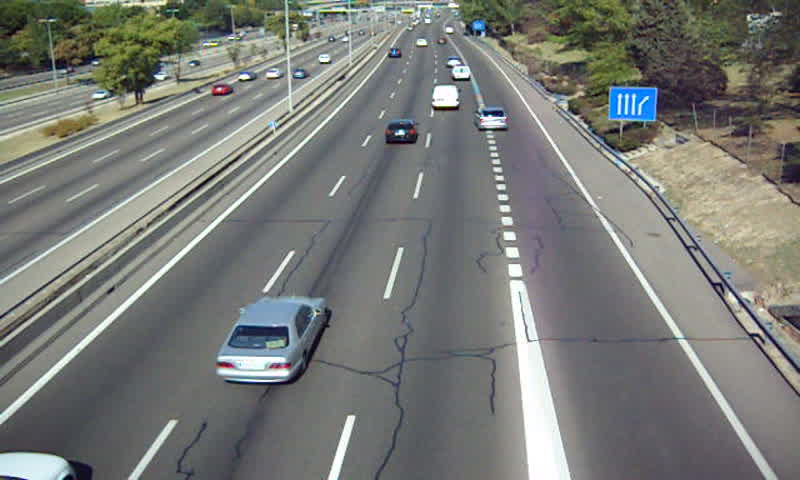car: (216, 296, 327, 384), (385, 119, 418, 146), (476, 105, 509, 131)
van: (432, 85, 459, 111), (453, 64, 471, 82)
